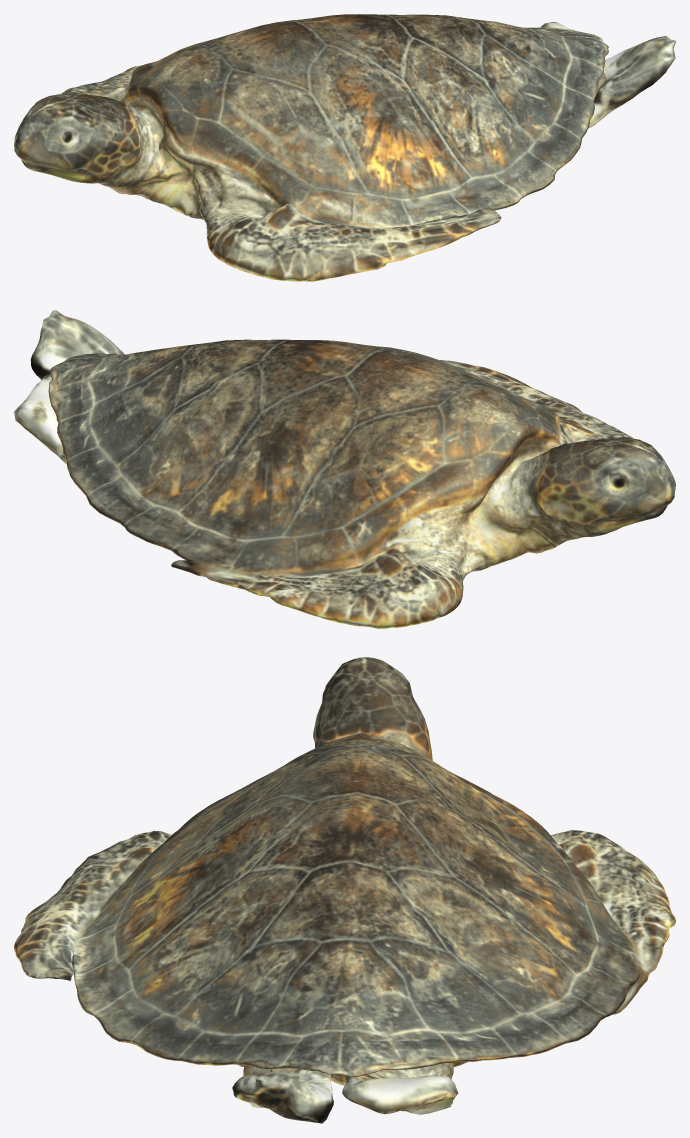
The model's file is tartaruga.obj.
The picture shows the model from 3 angles, top to bottom: view 1: azimuth 30°, elevation 25°; view 2: azimuth 150°, elevation 25°; view 3: azimuth 270°, elevation 25°; orthographic projection. The views are drawn at different scales.
Parts seen in each view (by area): view 1: polySurface1; view 2: polySurface1; view 3: polySurface1.
Boxes of the visible parts, bbox=[...] form: polySurface1: bbox=[14, 14, 675, 281]; polySurface1: bbox=[14, 310, 675, 628]; polySurface1: bbox=[14, 657, 675, 1123].
Size of the model in its own units: 440 by 116 by 324.
1 material, 1 textured.
